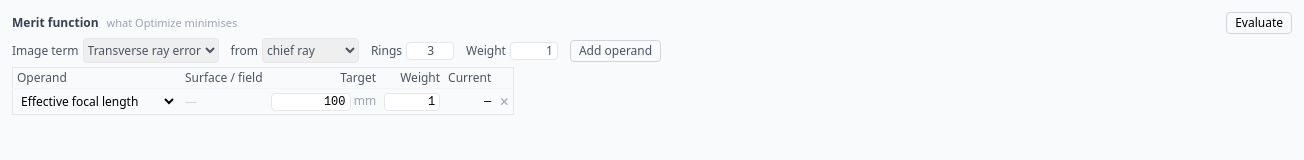
Scenario: MeritPanel › evaluates the merit and shows each operand's value
What coordinates should you click on to do the following:
click the button "Evaluate"
I would click on:
 (1259, 23)
Its box is [1226, 12, 1292, 34].
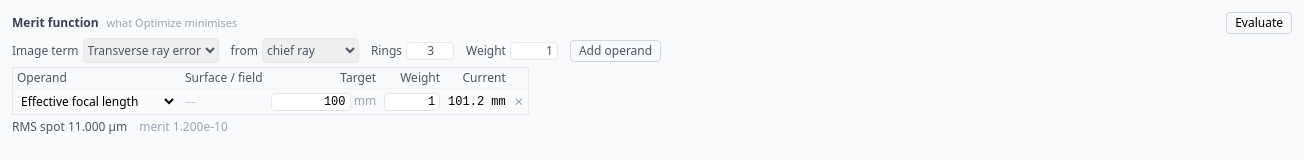
Expected: the element with test id "merit-report" shows "RMS spot 11.000 µm", [12, 118, 228, 135]
Expected: the cell with test id "operand-0-value" reads "101.2 mm", [444, 88, 510, 114]
